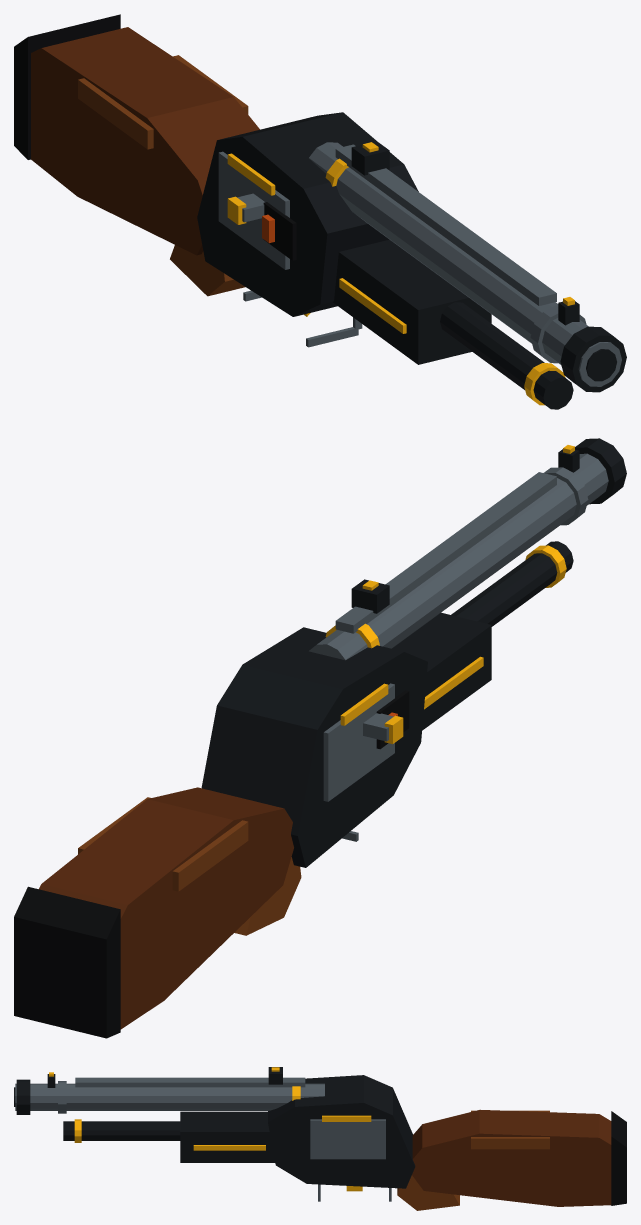
The model's file is ITEM0007_Shotgun.obj.
The picture shows the model from 3 angles, top to bottom: view 1: azimuth 30°, elevation 25°; view 2: azimuth 150°, elevation 25°; view 3: azimuth 270°, elevation 25°; orthographic projection. The views are drawn at different scales.
Visible parts, largest first — view 1: Wood_Stock, Receiver, Main_Barrel, Pump_ForeEnd, Top_Rib, Magazine_Tube, Butt_Pad, Receiver_Plate_Left, Stock_Cheek_Rest, Muzzle_Rim, Pistol_Grip, Ejection_Port (+9 smaller); view 2: Wood_Stock, Receiver, Butt_Pad, Main_Barrel, Pump_ForeEnd, Top_Rib, Receiver_Plate_Left, Magazine_Tube, Stock_Cheek_Rest, Pistol_Grip, Muzzle_Rim, Rear_Sight (+1 smaller); view 3: Wood_Stock, Receiver, Main_Barrel, Pump_ForeEnd, Receiver_Plate_Right, Top_Rib, Magazine_Tube, Butt_Pad, Pistol_Grip, Stock_Cheek_Rest_R, Muzzle_Rim, Pump_Stripe_Right (+3 smaller).
Boxes of the visible parts, x1=… form: Wood_Stock: x1=31, y1=27, x2=259, y2=255; Receiver: x1=197, y1=112, x2=418, y2=316; Main_Barrel: x1=309, y1=142, x2=588, y2=364; Pump_ForeEnd: x1=332, y1=239, x2=491, y2=364; Top_Rib: x1=335, y1=144, x2=556, y2=305; Magazine_Tube: x1=440, y1=302, x2=573, y2=409; Butt_Pad: x1=14, y1=14, x2=120, y2=159; Receiver_Plate_Left: x1=218, y1=151, x2=289, y2=269; Stock_Cheek_Rest: x1=78, y1=78, x2=153, y2=149; Muzzle_Rim: x1=560, y1=326, x2=626, y2=392; Pistol_Grip: x1=170, y1=245, x2=245, y2=296; Ejection_Port: x1=263, y1=202, x2=296, y2=260; Wood_Stock: x1=39, y1=787, x2=293, y2=1029; Receiver: x1=201, y1=627, x2=427, y2=867; Butt_Pad: x1=14, y1=886, x2=120, y2=1038; Main_Barrel: x1=309, y1=453, x2=608, y2=660; Pump_ForeEnd: x1=392, y1=612, x2=491, y2=730; Top_Rib: x1=335, y1=472, x2=556, y2=633; Receiver_Plate_Left: x1=323, y1=683, x2=394, y2=801; Magazine_Tube: x1=451, y1=541, x2=573, y2=626; Stock_Cheek_Rest: x1=172, y1=820, x2=248, y2=891; Pistol_Grip: x1=234, y1=857, x2=301, y2=935; Muzzle_Rim: x1=575, y1=438, x2=626, y2=504; Rear_Sight: x1=351, y1=579, x2=389, y2=613; Wood_Stock: x1=412, y1=1109, x2=611, y2=1206; Receiver: x1=268, y1=1075, x2=415, y2=1188; Main_Barrel: x1=30, y1=1083, x2=324, y2=1110; Pump_ForeEnd: x1=180, y1=1111, x2=275, y2=1162; Receiver_Plate_Right: x1=310, y1=1119, x2=385, y2=1159; Top_Rib: x1=75, y1=1077, x2=305, y2=1087; Magazine_Tube: x1=63, y1=1121, x2=180, y2=1140; Butt_Pad: x1=611, y1=1111, x2=626, y2=1205; Pistol_Grip: x1=397, y1=1175, x2=459, y2=1210; Stock_Cheek_Rest_R: x1=471, y1=1137, x2=549, y2=1149; Muzzle_Rim: x1=16, y1=1079, x2=30, y2=1114; Pump_Stripe_Right: x1=193, y1=1145, x2=265, y2=1150.
Size of the model in its own units: 0.14 by 0.221 by 0.932.
